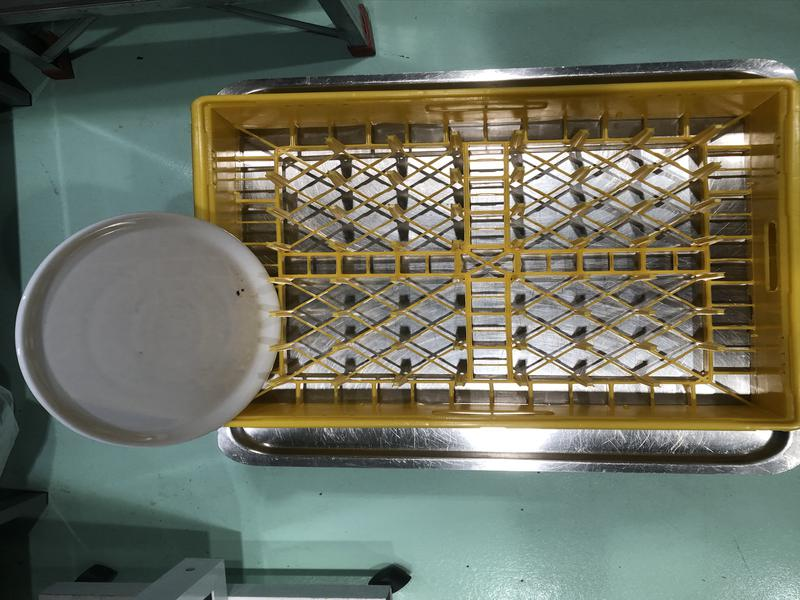Dish: (6, 210, 278, 445)
